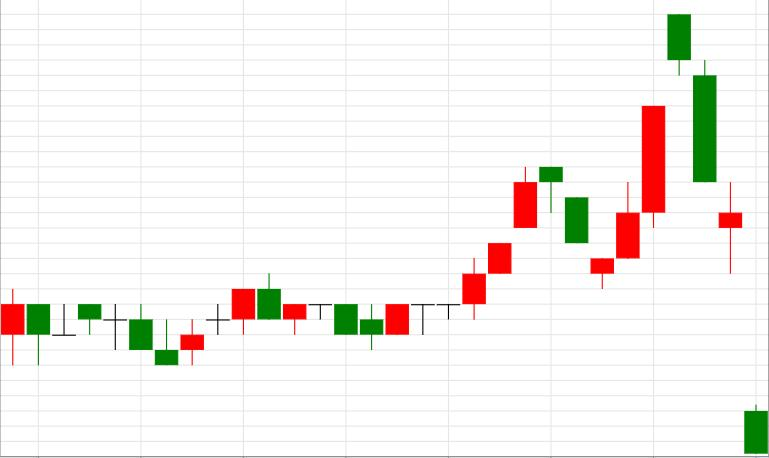evening_star_fall: (385, 168, 588, 335)
